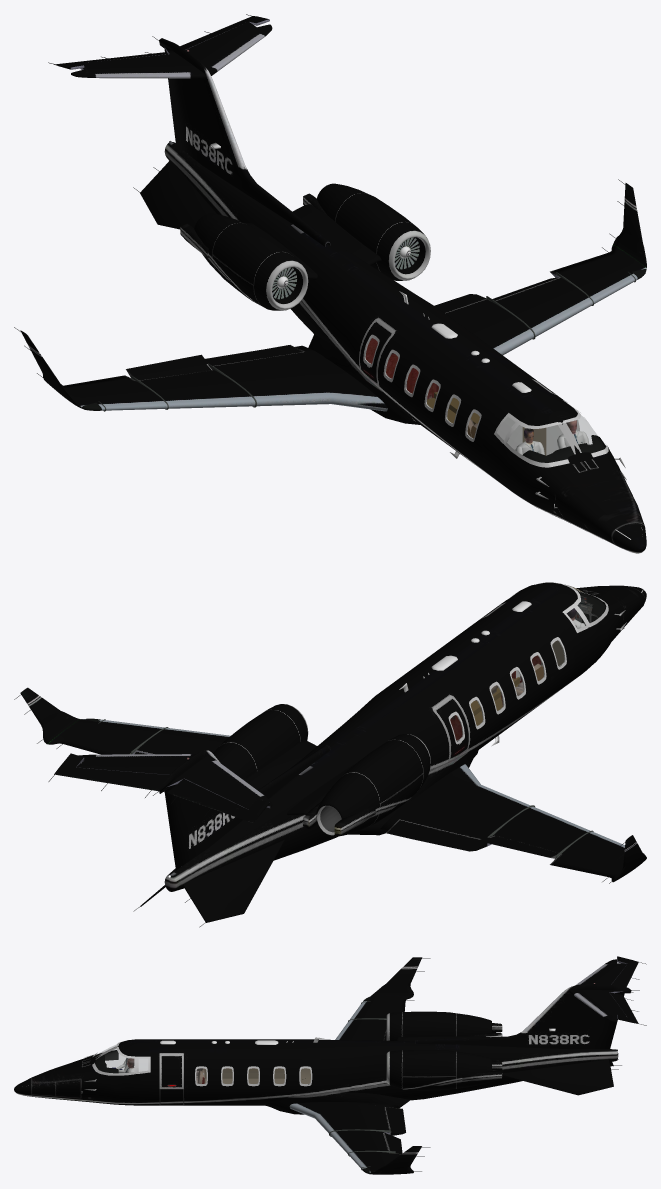
File: learjet_75_liberty.glb
The picture shows the model from 3 angles, top to bottom: view 1: azimuth 30°, elevation 25°; view 2: azimuth 150°, elevation 25°; view 3: azimuth 270°, elevation 25°; orthographic projection. The views are drawn at different scales.
Parts seen in each view (by area): view 1: Object_35, Object_63, Object_73, Object_71, Object_79, Object_77, Object_81, Object_33, Object_69, Object_109, Object_87, Object_83 (+1 smaller); view 2: Object_35, Object_63, Object_73, Object_77, Object_71, Object_79, Object_81, Object_33, Object_109, Object_87; view 3: Object_35, Object_73, Object_71, Object_79, Object_63, Object_77, Object_81, Object_33, Object_109, Object_87, Object_67.
Boxes of the visible parts, bbox=[...] form: Object_35: bbox=[140, 142, 646, 553]; Object_63: bbox=[20, 330, 387, 411]; Object_73: bbox=[180, 183, 430, 310]; Object_71: bbox=[434, 183, 646, 355]; Object_79: bbox=[159, 38, 489, 458]; Object_77: bbox=[54, 16, 272, 78]; Object_81: bbox=[365, 338, 604, 462]; Object_33: bbox=[365, 338, 546, 455]; Object_69: bbox=[364, 338, 579, 455]; Object_109: bbox=[363, 334, 481, 441]; Object_87: bbox=[494, 400, 608, 467]; Object_83: bbox=[515, 420, 589, 454]; Object_35: bbox=[140, 582, 646, 922]; Object_63: bbox=[380, 764, 646, 882]; Object_73: bbox=[213, 704, 430, 836]; Object_77: bbox=[54, 753, 272, 822]; Object_71: bbox=[20, 687, 230, 754]; Object_79: bbox=[159, 630, 499, 876]; Object_81: bbox=[450, 590, 604, 740]; Object_33: bbox=[450, 640, 564, 740]; Object_109: bbox=[448, 637, 566, 744]; Object_87: bbox=[508, 582, 608, 632]; Object_35: bbox=[14, 1028, 618, 1114]; Object_73: bbox=[386, 1011, 502, 1090]; Object_71: bbox=[289, 1102, 421, 1174]; Object_79: bbox=[211, 984, 631, 1050]; Object_63: bbox=[302, 957, 422, 1079]; Object_77: bbox=[569, 956, 638, 1023]; Object_81: bbox=[95, 1045, 310, 1083]; Object_33: bbox=[197, 1068, 310, 1083]; Object_109: bbox=[195, 1066, 312, 1086]; Object_87: bbox=[92, 1042, 204, 1075]; Object_67: bbox=[329, 1001, 404, 1170].
Bounding box in the file's own units: 12.8 × 3.87 × 18.1.
Materials: 42 (35 with a texture image).
